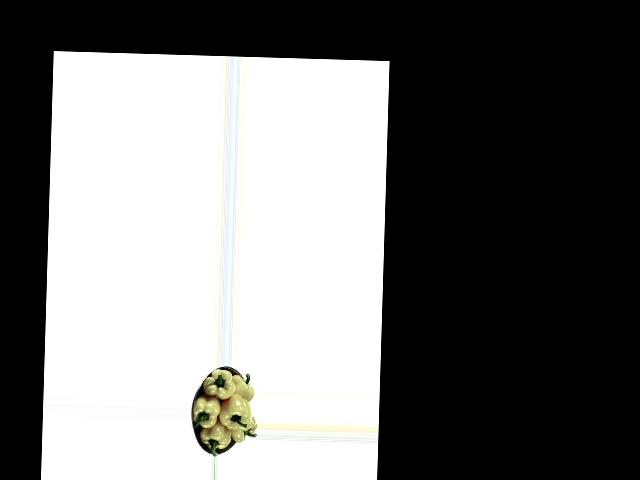bell_pepper: (228, 416, 256, 445)
